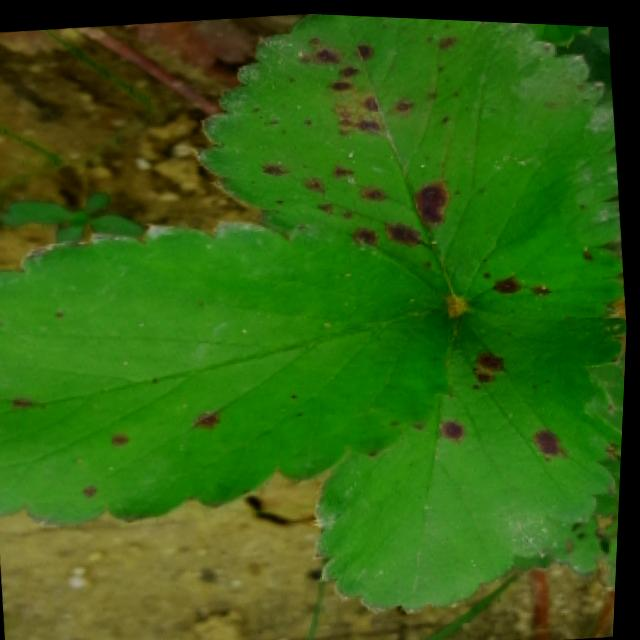Leaf Spot: (0, 216, 459, 526), (198, 11, 627, 314), (318, 306, 629, 611), (561, 440, 625, 581)
